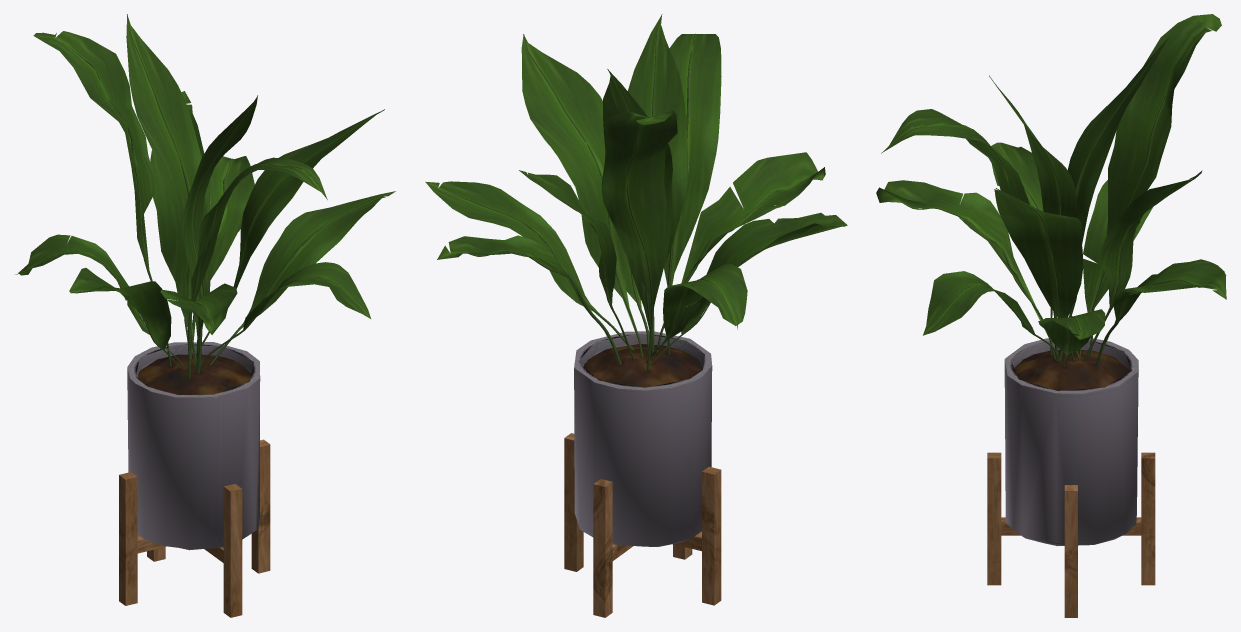
Rendered from plant-tall-palm.glb.
3 views of the same model, side by side, from view 1: azimuth 30°, elevation 25°; view 2: azimuth 150°, elevation 25°; view 3: azimuth 270°, elevation 25° (orthographic). The views are drawn at different scales.
Visible parts, largest first — view 1: Circle.001, BLASPGRN150_A_1200x1200 Transparent.007_BLASPGRN150_A_1200x1, Plane.002, BLASPGRN150_A_1200x1200 Transparent.006_BLASPGRN150_A_1200x1, BLASPGRN150_A_1200x1200 Transparent.011_BLASPGRN150_A_1200x1, BLASPGRN150_A_1200x1200 Transparent.013_BLASPGRN150_A_1200x1, BLASPGRN150_A_1200x1200 Transparent.005_BLASPGRN150_A_1200x1, BLASPGRN150_A_1200x1200 Transparent.012_BLASPGRN150_A_1200x1, BLASPGRN150_A_1200x1200 Transparent.002_BLASPGRN150_A_1200x1, BLASPGRN150_A_1200x1200 Transparent.009_BLASPGRN150_A_1200x1, BLASPGRN150_A_1200x1200 Transparent.010_BLASPGRN150_A_1200x1, BLASPGRN150_A_1200x1200 Transparent.008_BLASPGRN150_A_1200x1 (+6 smaller); view 2: Circle.001, BLASPGRN150_A_1200x1200 Transparent.013_BLASPGRN150_A_1200x1, BLASPGRN150_A_1200x1200 Transparent.006_BLASPGRN150_A_1200x1, Plane.002, BLASPGRN150_A_1200x1200 Transparent.002_BLASPGRN150_A_1200x1, BLASPGRN150_A_1200x1200 Transparent.004_BLASPGRN150_A_1200x1, BLASPGRN150_A_1200x1200 Transparent.005_BLASPGRN150_A_1200x1, BLASPGRN150_A_1200x1200 Transparent.011_BLASPGRN150_A_1200x1, BLASPGRN150_A_1200x1200 Transparent.008_BLASPGRN150_A_1200x1, BLASPGRN150_A_1200x1200 Transparent.009_BLASPGRN150_A_1200x1, BLASPGRN150_A_1200x1200 Transparent.007_BLASPGRN150_A_1200x1, BLASPGRN150_A_1200x1200 Transparent.012_BLASPGRN150_A_1200x1 (+4 smaller); view 3: Circle.001, BLASPGRN150_A_1200x1200 Transparent.006_BLASPGRN150_A_1200x1, BLASPGRN150_A_1200x1200 Transparent.013_BLASPGRN150_A_1200x1, Plane.002, BLASPGRN150_A_1200x1200 Transparent.004_BLASPGRN150_A_1200x1, BLASPGRN150_A_1200x1200 Transparent.007_BLASPGRN150_A_1200x1, BLASPGRN150_A_1200x1200 Transparent.002_BLASPGRN150_A_1200x1, BLASPGRN150_A_1200x1200 Transparent.003_BLASPGRN150_A_1200x1, BLASPGRN150_A_1200x1200 Transparent.010_BLASPGRN150_A_1200x1, BLASPGRN150_A_1200x1200 Transparent.012_BLASPGRN150_A_1200x1, BLASPGRN150_A_1200x1200 Transparent.005_BLASPGRN150_A_1200x1, BLASPGRN150_A_1200x1200 Transparent.008_BLASPGRN150_A_1200x1 (+3 smaller).
Part boxes in pixels (x1,y1,x2,y2): Circle.001: (127,342,260,550); BLASPGRN150_A_1200x1200 Transparent.007_BLASPGRN150_A_1200x1: (126,15,208,365); Plane.002: (119,439,270,617); BLASPGRN150_A_1200x1200 Transparent.006_BLASPGRN150_A_1200x1: (33,31,155,280); BLASPGRN150_A_1200x1200 Transparent.011_BLASPGRN150_A_1200x1: (235,191,395,334); BLASPGRN150_A_1200x1200 Transparent.013_BLASPGRN150_A_1200x1: (233,111,381,289); BLASPGRN150_A_1200x1200 Transparent.005_BLASPGRN150_A_1200x1: (182,97,257,358); BLASPGRN150_A_1200x1200 Transparent.012_BLASPGRN150_A_1200x1: (198,156,254,298); BLASPGRN150_A_1200x1200 Transparent.002_BLASPGRN150_A_1200x1: (189,157,326,340); BLASPGRN150_A_1200x1200 Transparent.009_BLASPGRN150_A_1200x1: (69,268,171,352); BLASPGRN150_A_1200x1200 Transparent.010_BLASPGRN150_A_1200x1: (229,262,370,340); BLASPGRN150_A_1200x1200 Transparent.008_BLASPGRN150_A_1200x1: (18,234,171,353); Circle.001: (574,331,712,546); BLASPGRN150_A_1200x1200 Transparent.013_BLASPGRN150_A_1200x1: (521,35,636,335); BLASPGRN150_A_1200x1200 Transparent.006_BLASPGRN150_A_1200x1: (601,110,677,310); Plane.002: (564,433,721,617); BLASPGRN150_A_1200x1200 Transparent.002_BLASPGRN150_A_1200x1: (664,34,721,286); BLASPGRN150_A_1200x1200 Transparent.004_BLASPGRN150_A_1200x1: (681,152,825,283); BLASPGRN150_A_1200x1200 Transparent.005_BLASPGRN150_A_1200x1: (627,16,688,339); BLASPGRN150_A_1200x1200 Transparent.011_BLASPGRN150_A_1200x1: (425,181,619,332); BLASPGRN150_A_1200x1200 Transparent.008_BLASPGRN150_A_1200x1: (656,264,747,351); BLASPGRN150_A_1200x1200 Transparent.009_BLASPGRN150_A_1200x1: (663,212,847,351); BLASPGRN150_A_1200x1200 Transparent.007_BLASPGRN150_A_1200x1: (603,71,672,347); BLASPGRN150_A_1200x1200 Transparent.012_BLASPGRN150_A_1200x1: (437,235,613,349); Circle.001: (1004,338,1138,546); BLASPGRN150_A_1200x1200 Transparent.006_BLASPGRN150_A_1200x1: (1101,14,1221,286); BLASPGRN150_A_1200x1200 Transparent.013_BLASPGRN150_A_1200x1: (994,189,1083,318); Plane.002: (987,452,1155,617); BLASPGRN150_A_1200x1200 Transparent.004_BLASPGRN150_A_1200x1: (876,180,1047,335); BLASPGRN150_A_1200x1200 Transparent.007_BLASPGRN150_A_1200x1: (1067,37,1169,315); BLASPGRN150_A_1200x1200 Transparent.002_BLASPGRN150_A_1200x1: (884,109,1029,204); BLASPGRN150_A_1200x1200 Transparent.003_BLASPGRN150_A_1200x1: (1100,170,1202,317); BLASPGRN150_A_1200x1200 Transparent.010_BLASPGRN150_A_1200x1: (923,271,1037,336); BLASPGRN150_A_1200x1200 Transparent.012_BLASPGRN150_A_1200x1: (1101,259,1226,353); BLASPGRN150_A_1200x1200 Transparent.005_BLASPGRN150_A_1200x1: (993,81,1077,217); BLASPGRN150_A_1200x1200 Transparent.008_BLASPGRN150_A_1200x1: (1083,180,1152,312).
Bounding box in the file's own units: 1.22 × 1.71 × 1.
6 materials, 5 textured.
